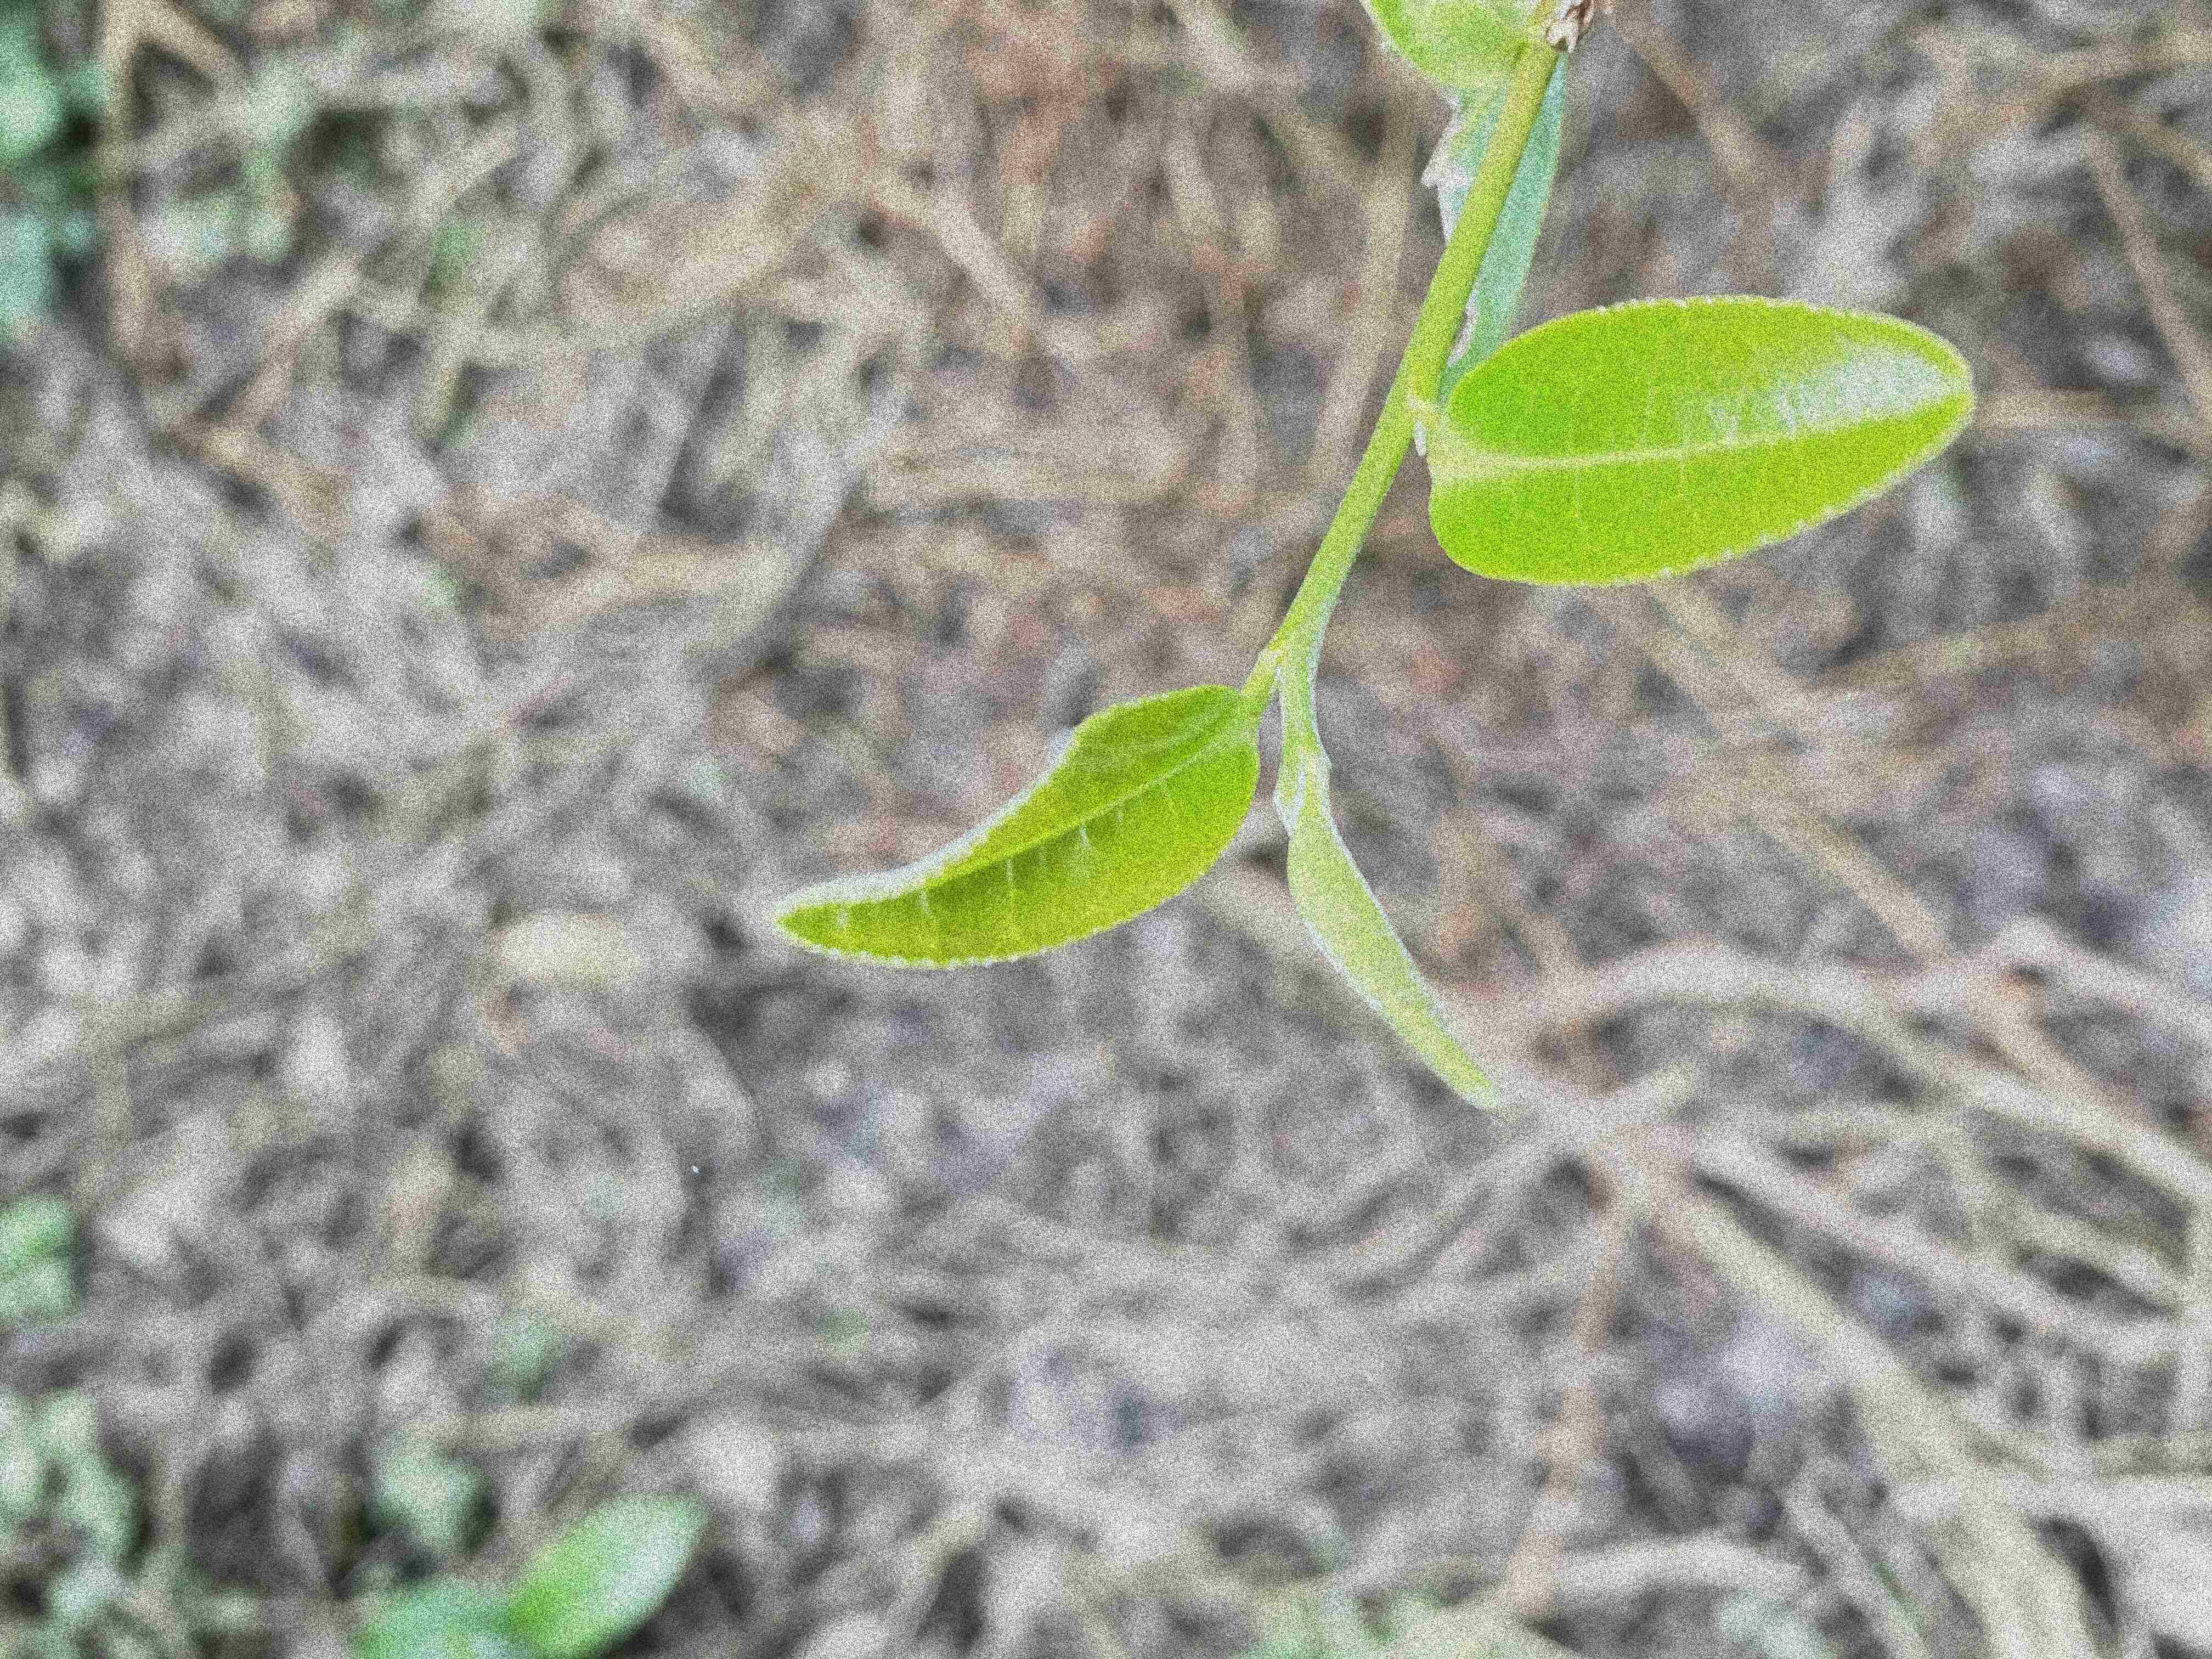healthy: (1426, 291, 1973, 587), (763, 683, 1261, 969)
